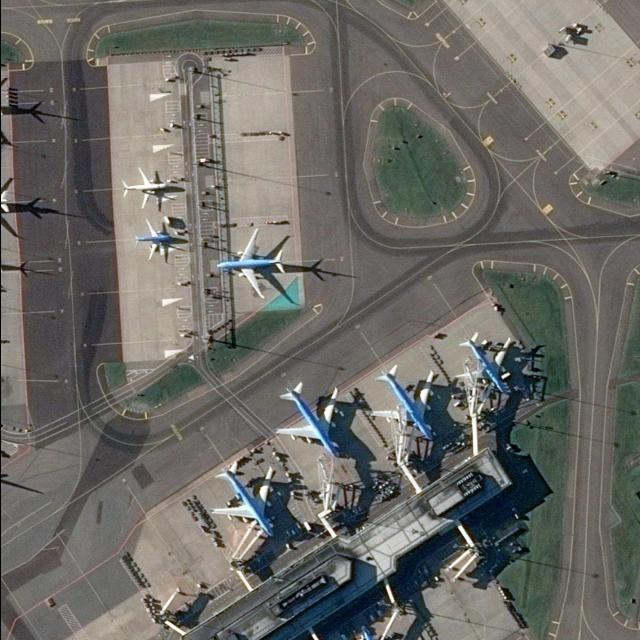Aircraft: (368, 365, 436, 443), (276, 381, 342, 461), (211, 461, 277, 540), (216, 228, 287, 300), (456, 332, 513, 396), (120, 169, 169, 209), (134, 220, 176, 261)
